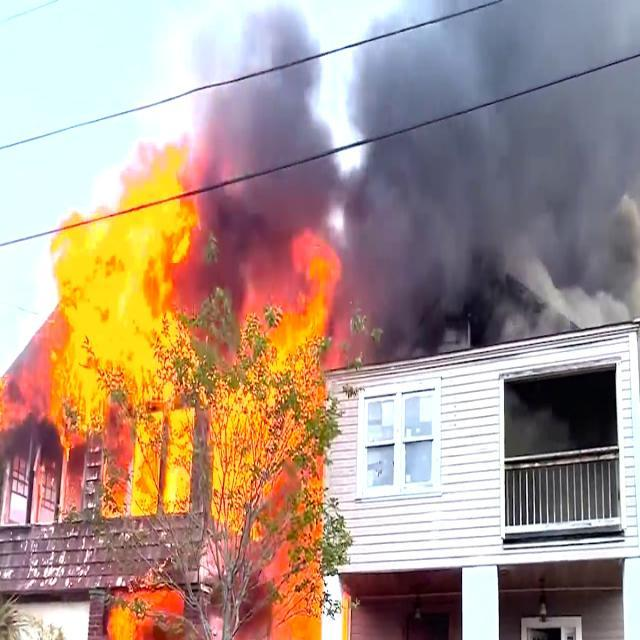Fire: (212, 274, 314, 584), (106, 238, 188, 396), (55, 230, 96, 432), (136, 410, 189, 508), (101, 170, 184, 220), (118, 594, 170, 632)
Smoke: (203, 10, 640, 206), (356, 216, 640, 317)
